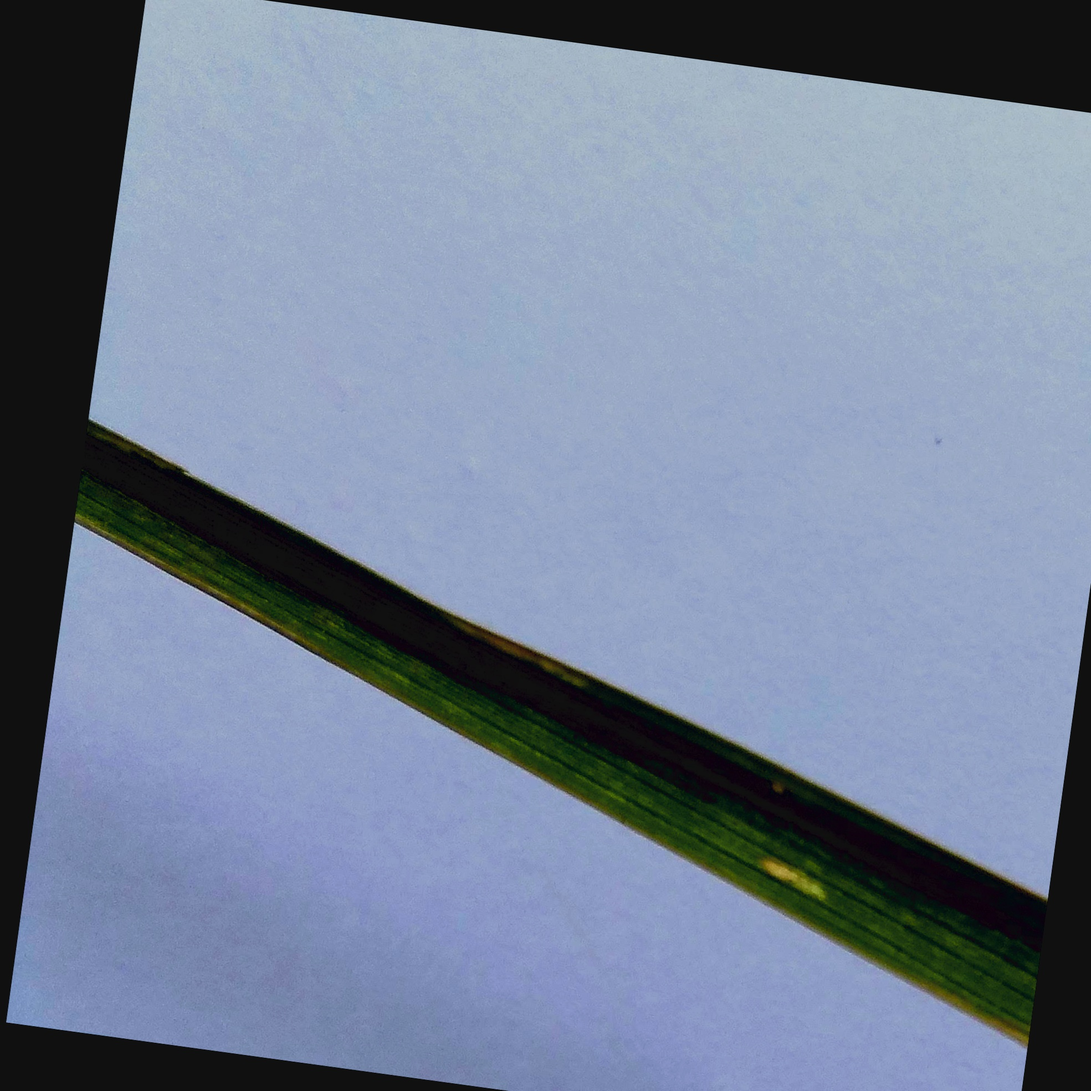Brown_Spot: (758, 857, 839, 894)
